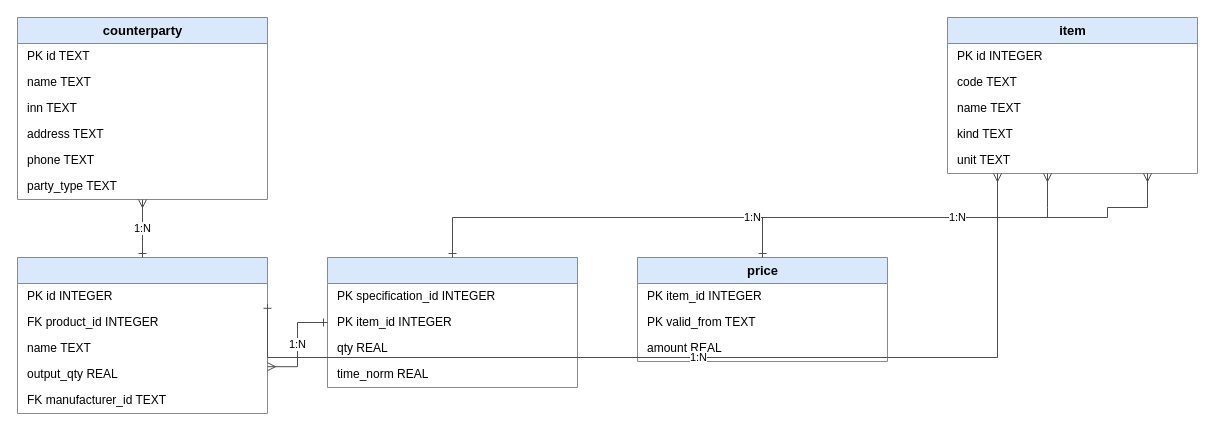
The diagram is 1215 pixels wide and 431 high, and some of its shapes have lost their labels. Here are the shapes that lost their labels. From the top down, the box of each, then its label:
(16, 256, 268, 414): specification
(326, 256, 578, 388): specification_component
